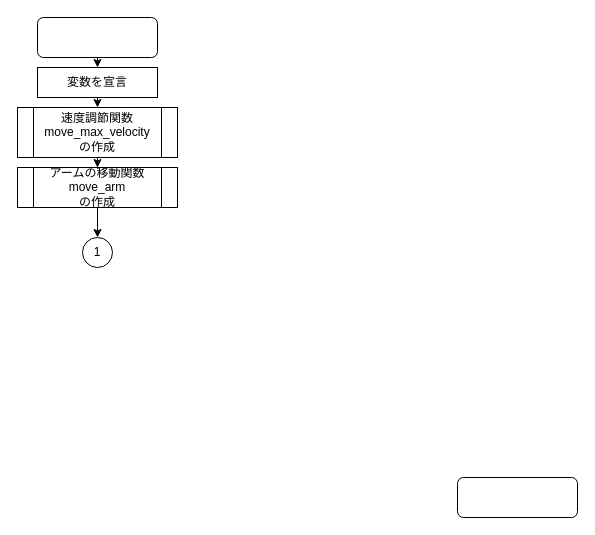
This 595x535 diagram has some shape labels left out. The box of each missing label's shape, as (x1, y1, x2, y2) in pixels:
終了: (456, 476, 578, 518)
開始: (36, 16, 158, 58)
